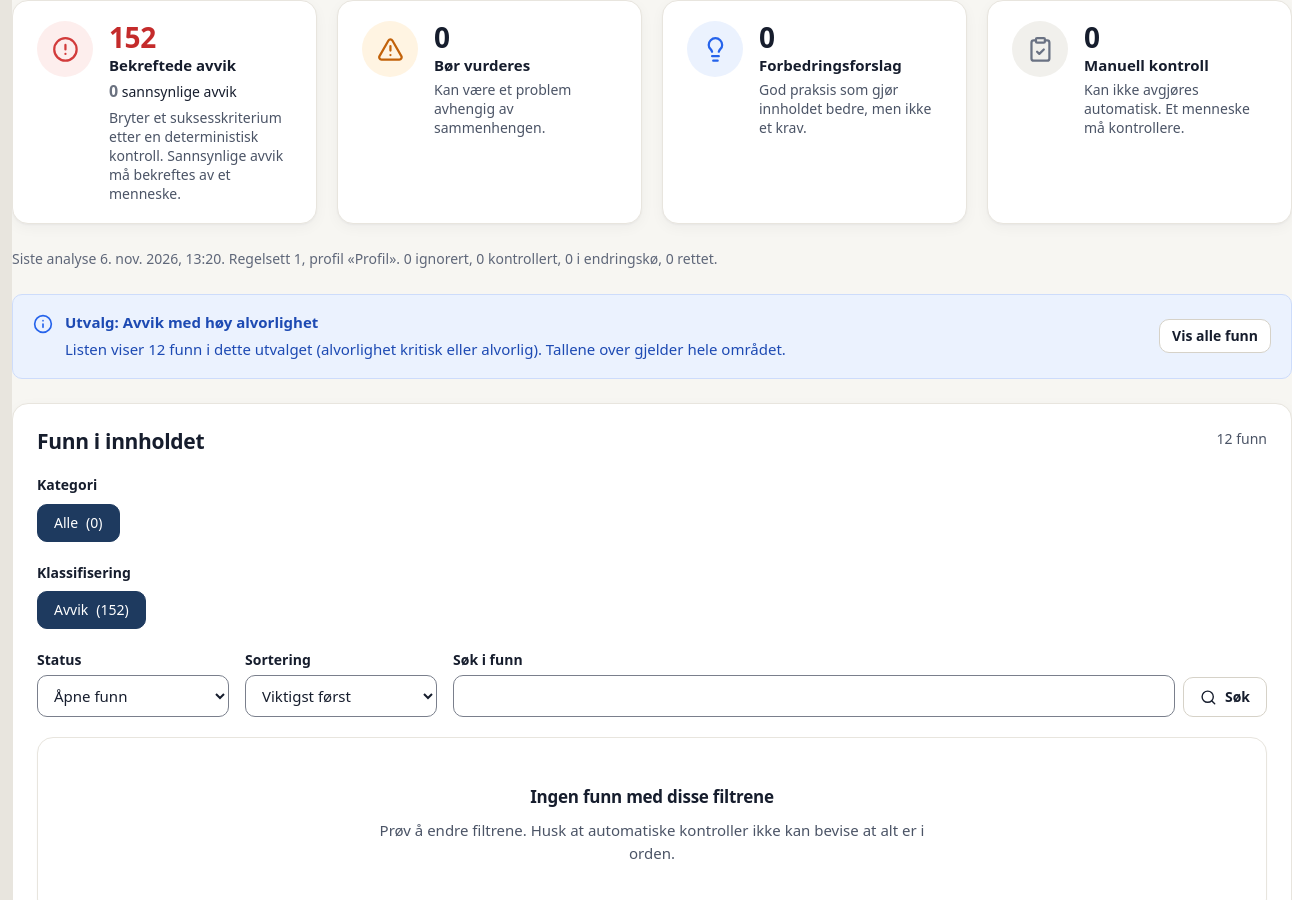
Scenario: a selection from a link › asks the API for exactly the selection, says so and can show everything again
Expected: the text "Utvalg: Avvik med høy alvorlighet" is shown, [65, 312, 318, 332]
Expected: the text "Listen viser 12 funn i dette utvalget (alvorlighet kritisk eller alvorlig)" is shown, [65, 339, 786, 359]
Click the button "Vis alle funn" at [1215, 336], box [1159, 319, 1271, 353]
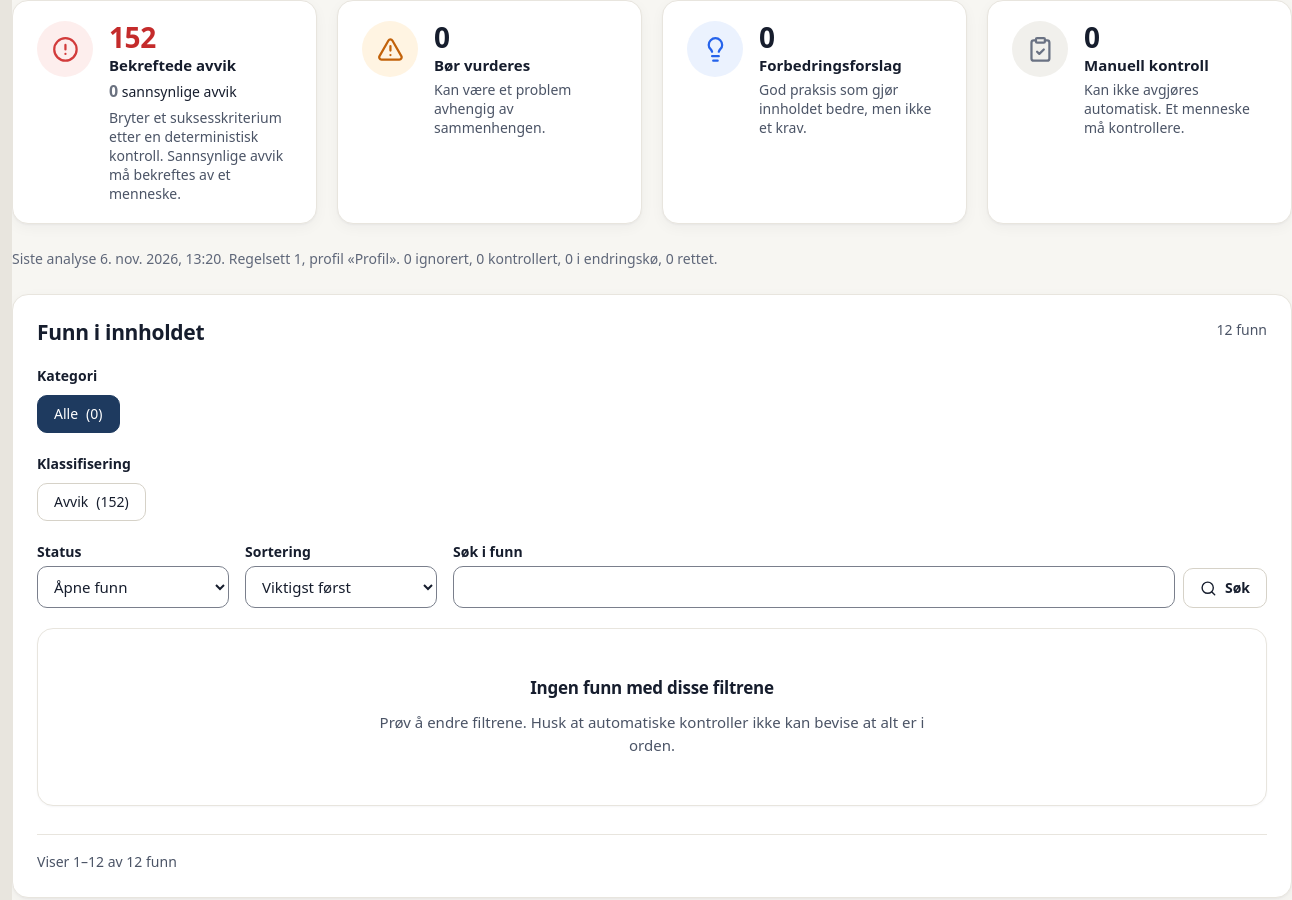
Expected: the text "Utvalg:" is gone
